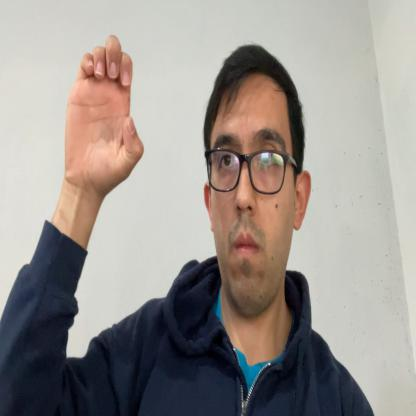E: (64, 33, 145, 193)
